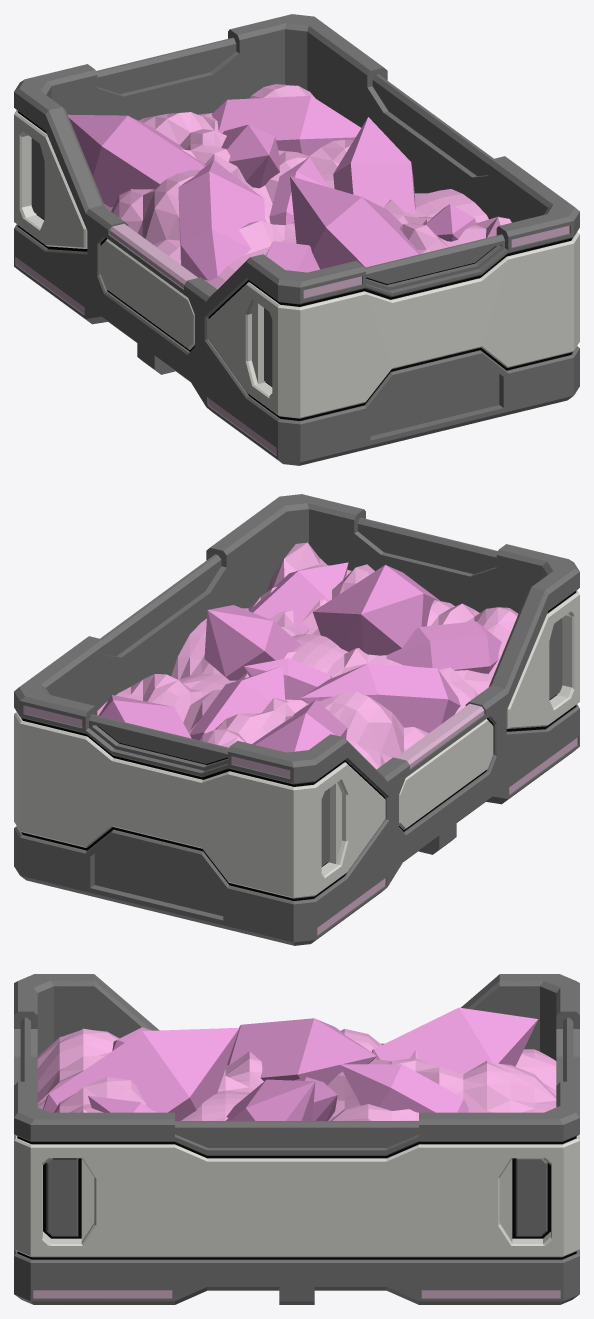
The model's file is SM_Sorted_Quartz.fbx.
3 renders of one model, top to bottom at view 1: azimuth 30°, elevation 25°; view 2: azimuth 150°, elevation 25°; view 3: azimuth 270°, elevation 25°, orthographic.
Visible parts, largest first — view 1: SM_Sorted_Quartz; view 2: SM_Sorted_Quartz; view 3: SM_Sorted_Quartz.
Part boxes in pixels (x1,y1,x2,y2): SM_Sorted_Quartz: (14,14,579,465); SM_Sorted_Quartz: (14,494,579,945); SM_Sorted_Quartz: (14,974,579,1304).
Size of the model in its own units: 23 by 14.21 by 37.01.
